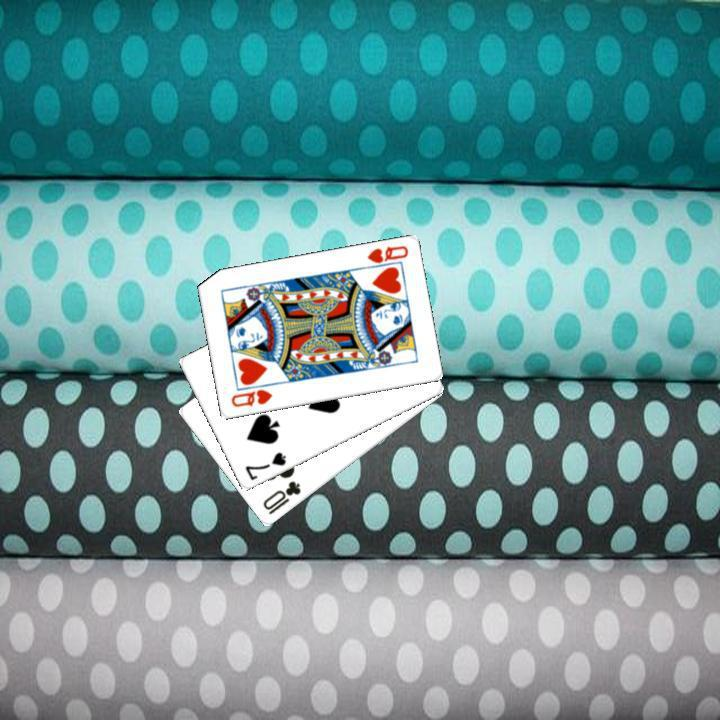10: (258, 477, 303, 517)
7: (241, 448, 288, 483)
Q: (359, 241, 410, 272), (226, 385, 274, 409)
